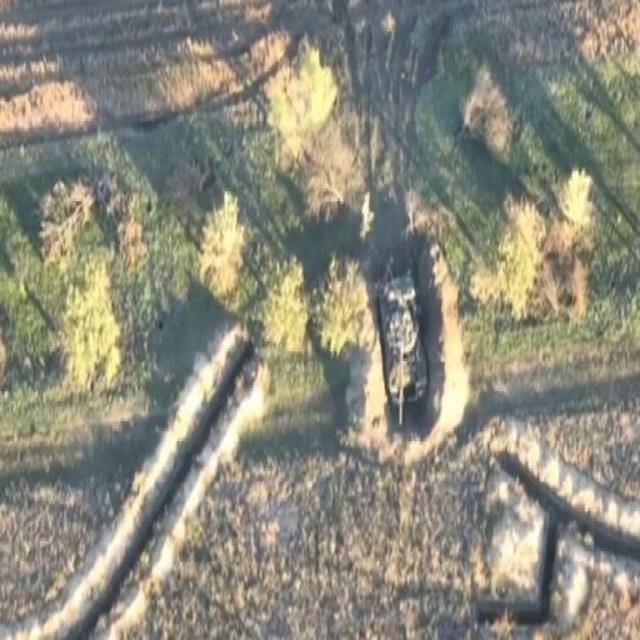TANK: (370, 262, 429, 429)
